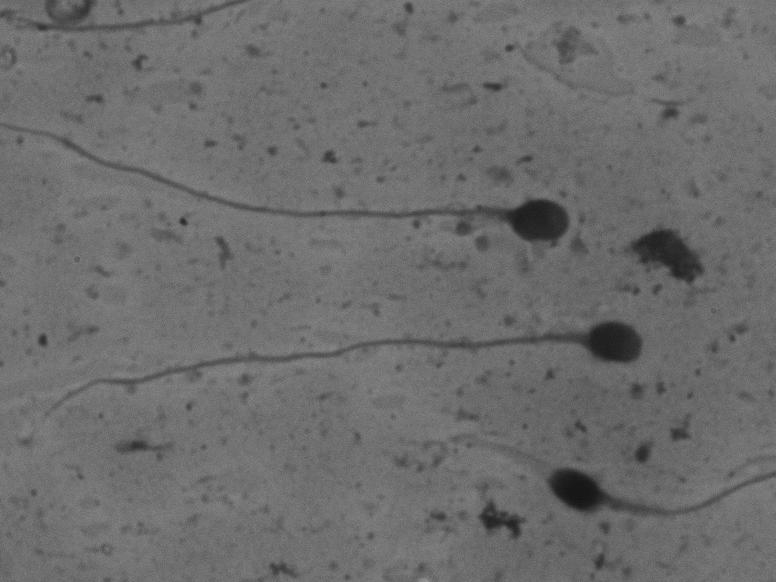Normal: (8, 107, 588, 260), (33, 310, 660, 443), (513, 445, 764, 540)
